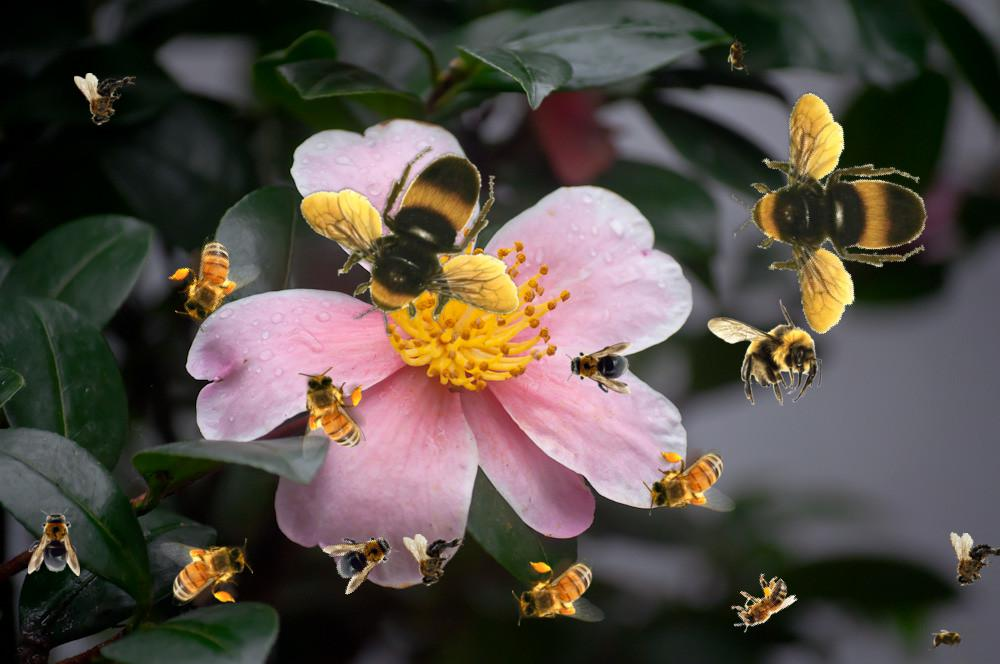Bee: (689, 63, 963, 350), (299, 146, 519, 337), (152, 223, 268, 338), (707, 299, 822, 406), (320, 516, 406, 596), (160, 538, 253, 606), (298, 367, 366, 460), (643, 448, 736, 516), (512, 558, 605, 626), (720, 565, 800, 644), (937, 528, 1000, 598), (28, 508, 80, 576), (565, 342, 633, 394), (403, 534, 465, 587), (74, 73, 136, 126), (727, 35, 749, 75), (928, 629, 968, 651)
